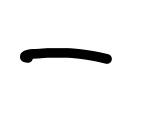minus: (19, 47, 113, 64)
